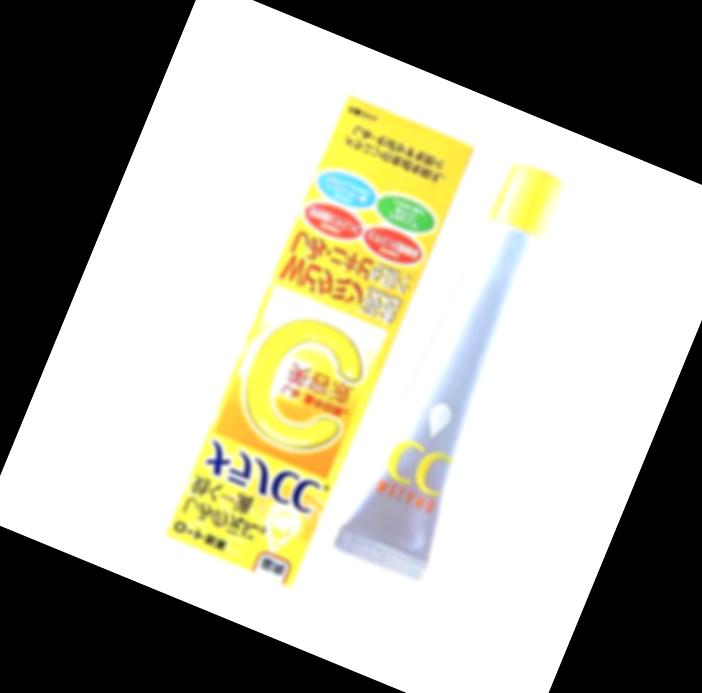cosmetic: (327, 149, 582, 584)
